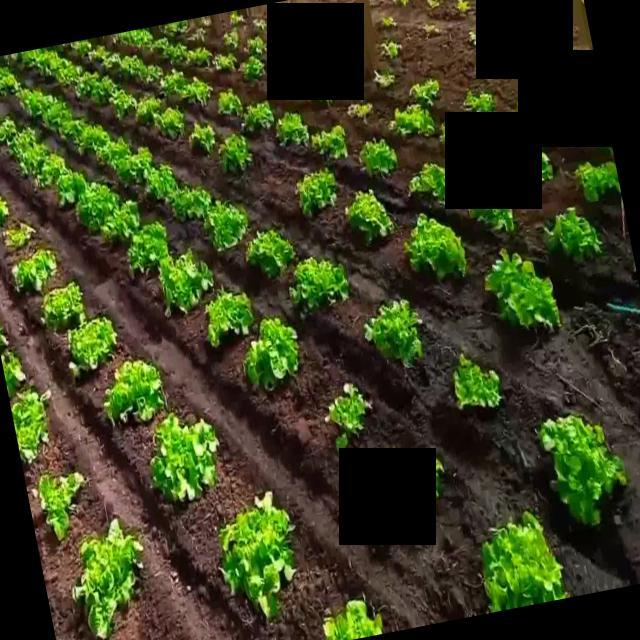Lettuce: (541, 408, 627, 528), (221, 488, 299, 620), (72, 513, 145, 640), (484, 514, 564, 618), (478, 241, 563, 333), (150, 407, 218, 508), (100, 351, 168, 427), (405, 214, 477, 282), (357, 302, 427, 366), (246, 313, 299, 397), (32, 470, 86, 542), (291, 253, 352, 309), (318, 384, 371, 448), (159, 250, 213, 312), (455, 350, 505, 416), (542, 208, 604, 260), (202, 291, 255, 351), (323, 594, 388, 640), (125, 220, 171, 284), (347, 186, 396, 244), (68, 317, 117, 375), (570, 158, 624, 207), (37, 282, 85, 336), (16, 389, 50, 464), (243, 231, 292, 279), (201, 200, 247, 250), (292, 168, 340, 214), (10, 246, 58, 291), (76, 181, 120, 229), (405, 162, 447, 208), (388, 104, 435, 140), (103, 200, 141, 242), (170, 185, 213, 222), (359, 137, 398, 177), (114, 146, 152, 187), (274, 109, 312, 147), (312, 127, 352, 160), (218, 135, 254, 171), (144, 165, 178, 203), (54, 168, 85, 209), (240, 99, 276, 134), (95, 139, 133, 169), (181, 76, 214, 110), (11, 125, 39, 164), (59, 116, 89, 152), (155, 105, 186, 138), (44, 100, 74, 134), (118, 27, 154, 54), (77, 121, 111, 149), (24, 144, 53, 176), (462, 88, 499, 113), (19, 90, 49, 120), (214, 87, 243, 118), (91, 75, 119, 107), (408, 77, 440, 105), (160, 67, 187, 100), (104, 52, 137, 79), (39, 155, 70, 183), (135, 95, 163, 125), (110, 88, 137, 119), (144, 35, 170, 62), (190, 123, 215, 151), (239, 57, 266, 81), (0, 113, 18, 147), (0, 67, 19, 99), (184, 46, 212, 67), (141, 64, 165, 88), (75, 70, 97, 96), (212, 51, 237, 70), (159, 22, 190, 36), (168, 42, 186, 66), (246, 36, 267, 56), (224, 27, 240, 48)
